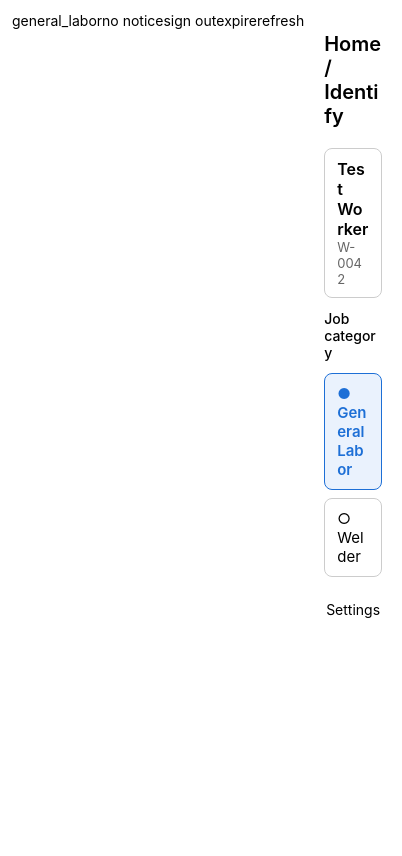
refreshJobs › shows a job an admin added since the app loaded its list
The width and height of the screenshot is (402, 856).
Expected: the text "● General Labor" is shown, [337,384,369,479]
Click the element with test id "refresh" at x=281, y=20, box [257,12,304,29]
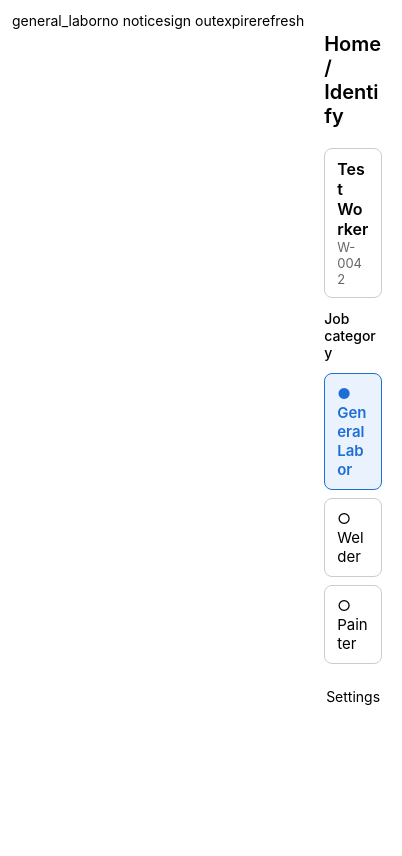
Expected: the text "○ Painter" is shown, [337,596,369,653]
